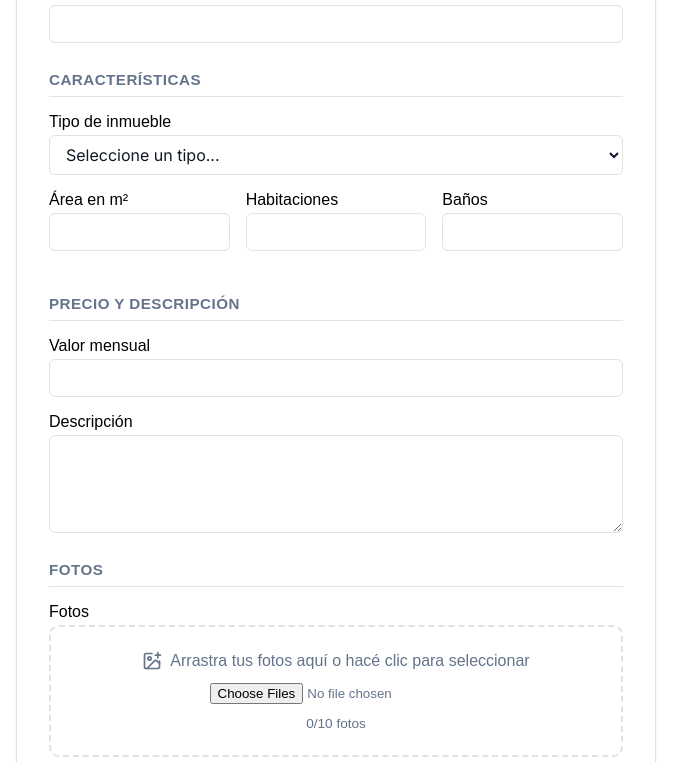
PublicarInmueblePage — mejoras de UI (Red — ui-formulario-inmueble) › Vista previa de moneda del valor mensual › shows a formatted preview near the input while keeping its raw numeric value intact
(page scrolled)
In the number field labelled "Valor mensual": coordinates (336, 378) [49,360,623,398], type "1500000"
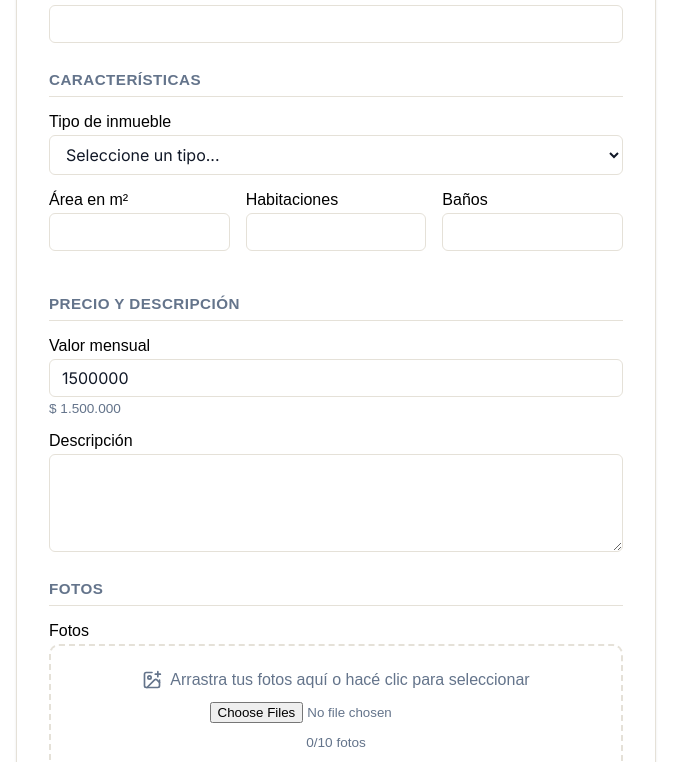
Expected: the text "$ 1.500.000" is shown, [49,402,121,416]
